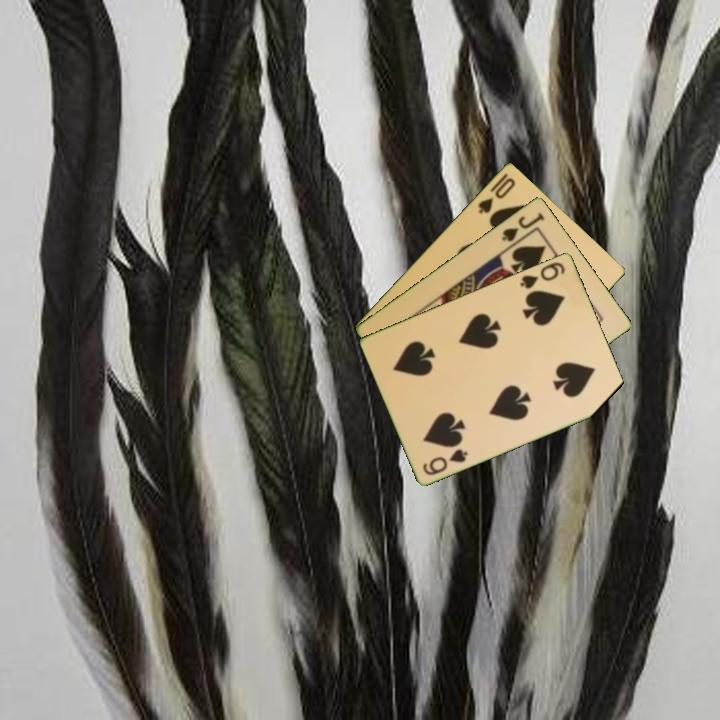10s: (474, 174, 518, 217)
6s: (516, 258, 568, 292), (419, 445, 471, 478)
Js: (498, 209, 548, 244)
